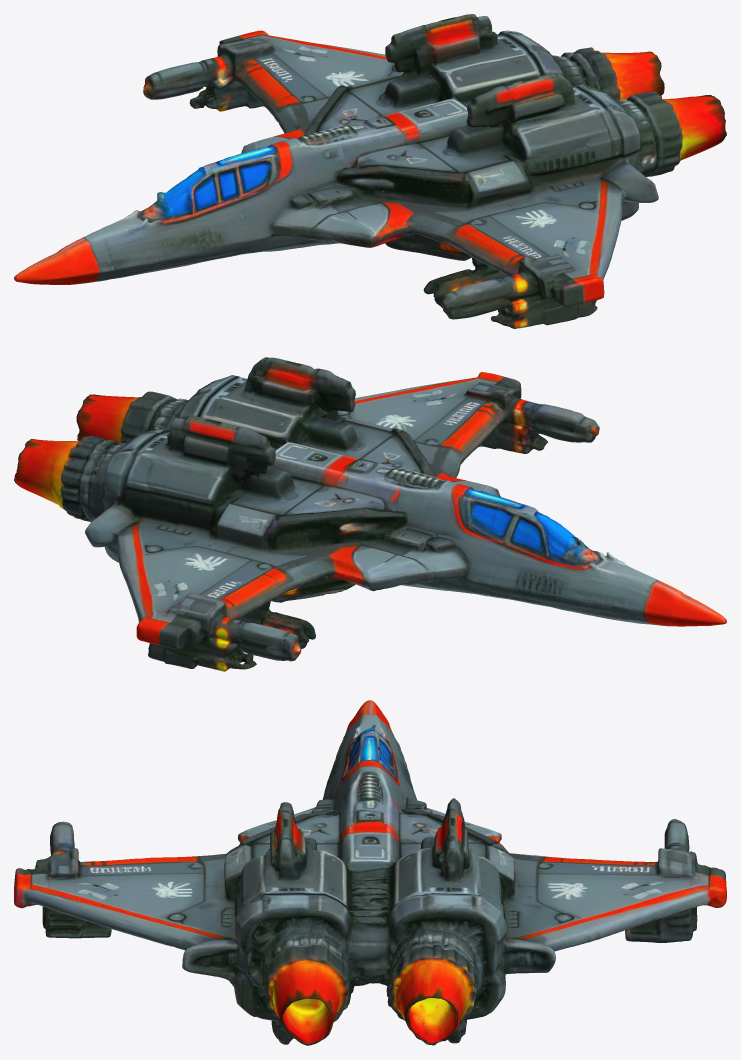
The model's file is straight-viewer.glb.
3 renders of one model, top to bottom at view 1: azimuth 30°, elevation 25°; view 2: azimuth 150°, elevation 25°; view 3: azimuth 270°, elevation 25°, orthographic. The views are drawn at different scales.
Size of the model in its own units: 2 by 0.5822 by 1.78.
1 material, 1 textured.
